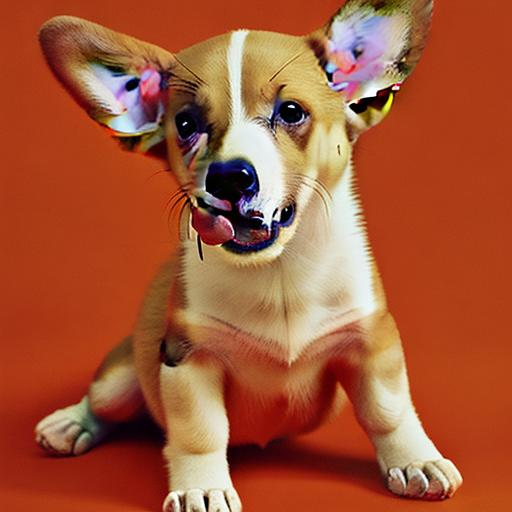eye: (170, 105, 219, 139), (266, 96, 315, 130)
